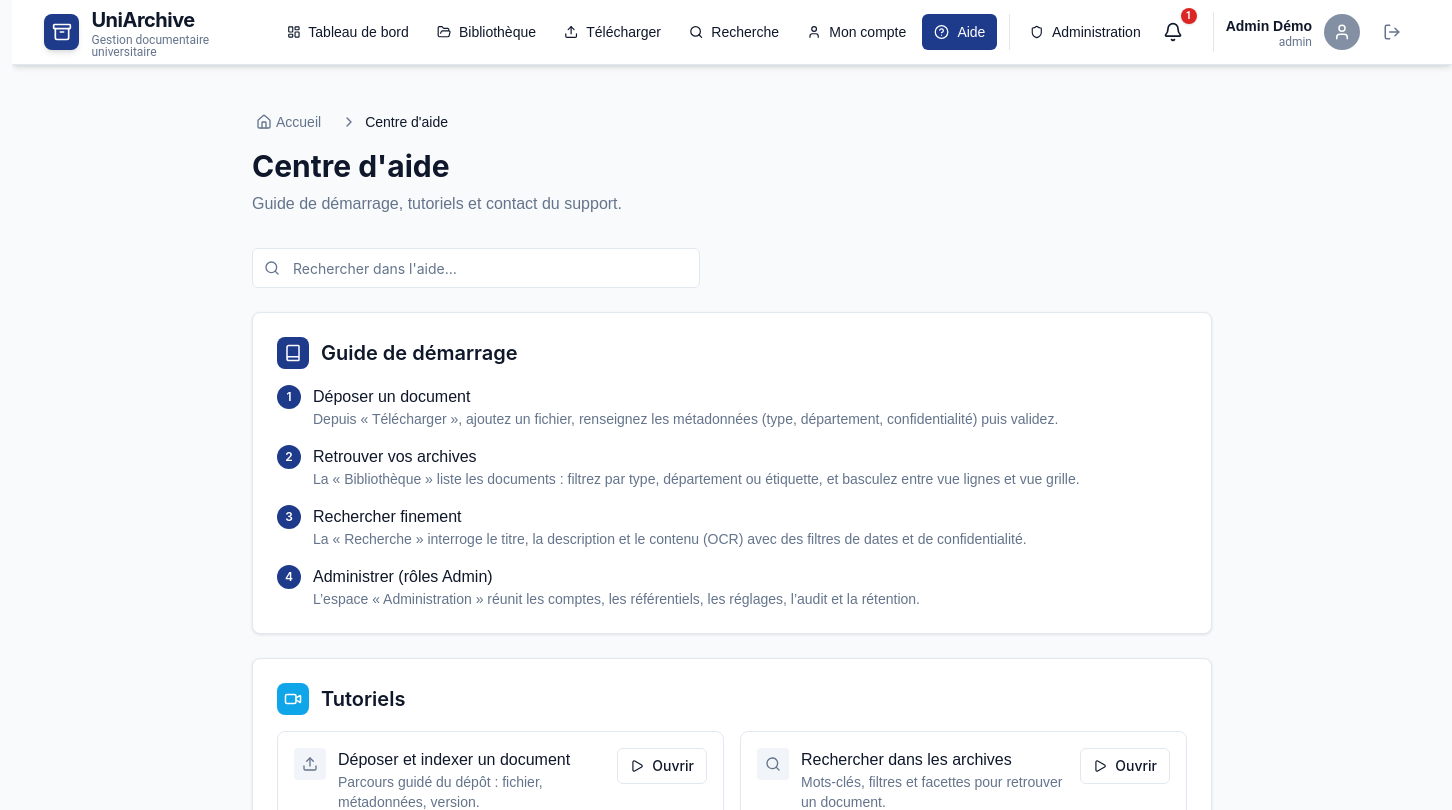
centre d'aide (page /help) › un tutoriel mène à l’écran concerné
The image size is (1452, 810).
Click the button with aria-label "Ouvrir le tutoriel « Déposer et indexer un document »": (662, 766) [617,748,707,784]
(page scrolled)
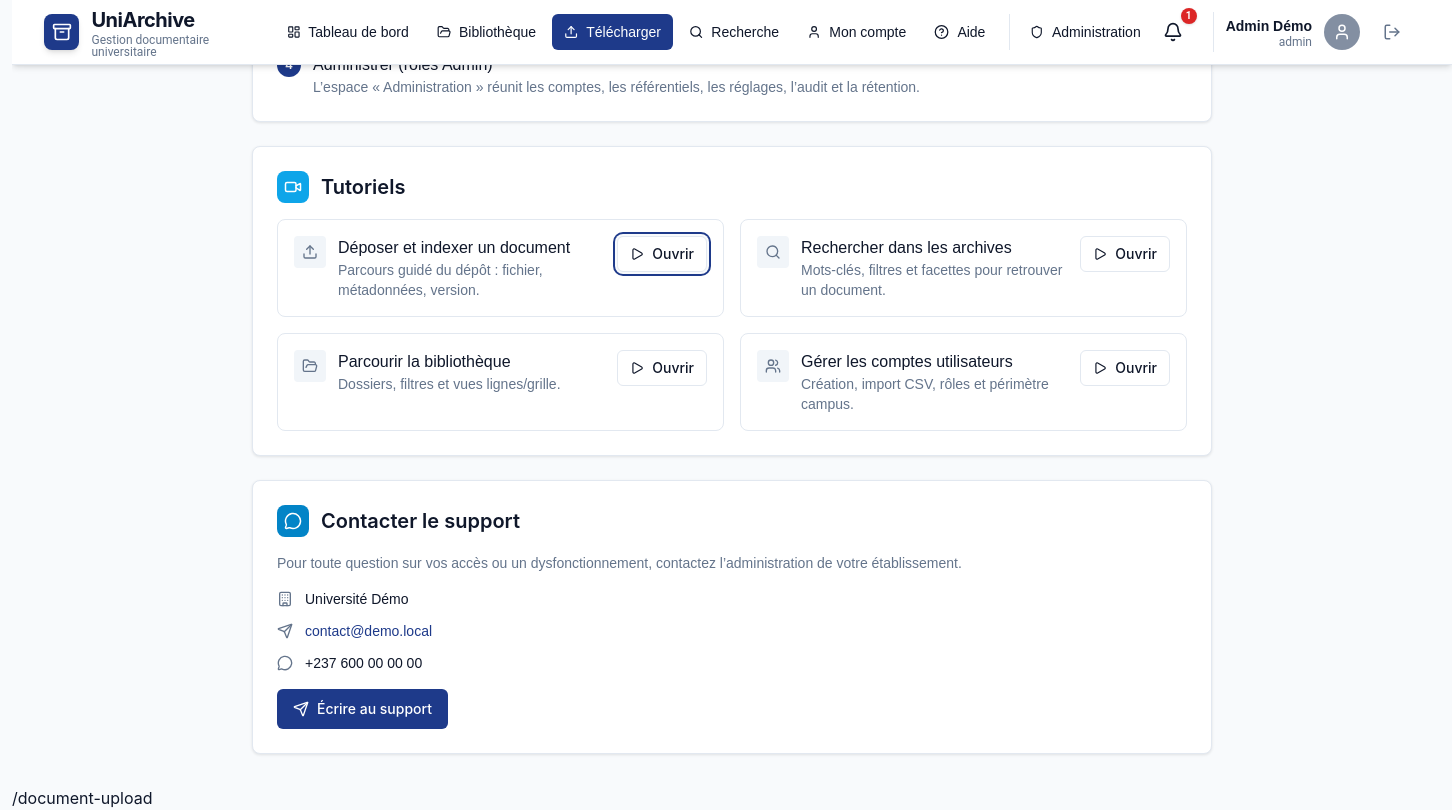
Now the text with test id "location-path" reads "/document-upload", box [12,788,152,808]
